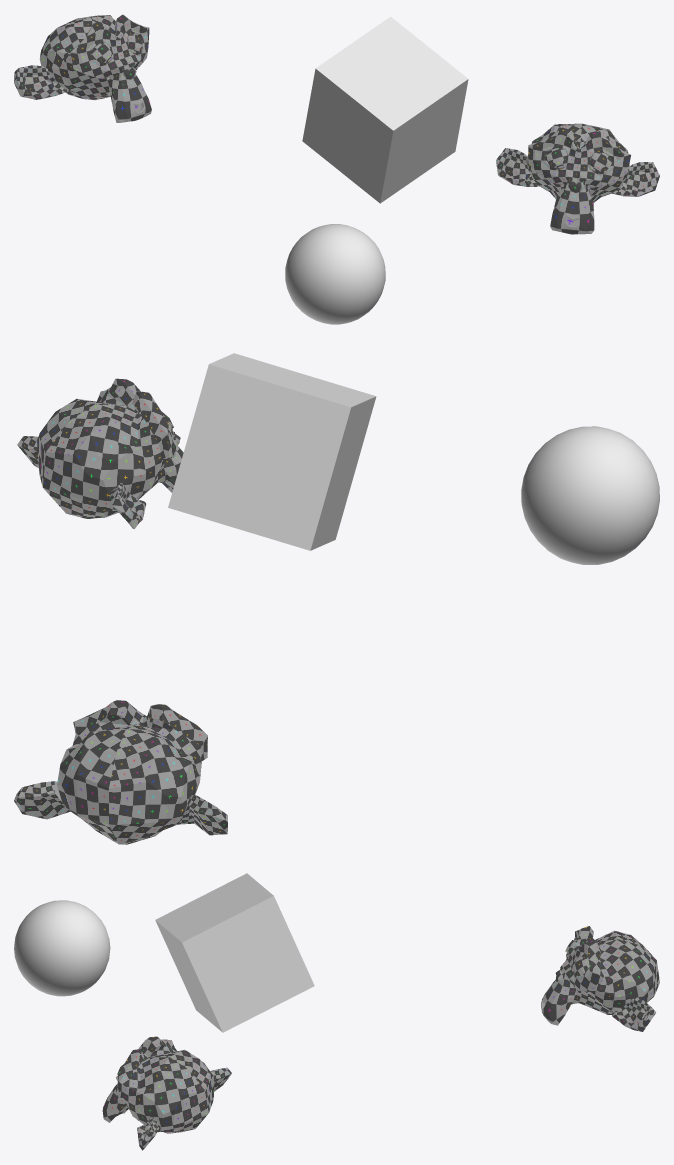
3 views of the same model, one above another, from view 1: azimuth 30°, elevation 25°; view 2: azimuth 150°, elevation 25°; view 3: azimuth 270°, elevation 25° (orthographic). The views are drawn at different scales.
Visible parts, largest first — view 1: MainBox, Suzanne, Suzanne.001, Sphere; view 2: MainBox, Suzanne.001, Suzanne, Sphere; view 3: MainBox, Suzanne.001, Suzanne, Sphere.
Part boxes in pixels (x1=…): MainBox: x1=302, y1=16, x2=468, y2=203; Suzanne: x1=496, y1=123, x2=659, y2=234; Suzanne.001: x1=14, y1=14, x2=151, y2=122; Sphere: x1=285, y1=224, x2=385, y2=324; MainBox: x1=168, y1=353, x2=376, y2=550; Suzanne.001: x1=14, y1=700, x2=227, y2=844; Suzanne: x1=17, y1=378, x2=183, y2=529; Sphere: x1=521, y1=426, x2=659, y2=564; MainBox: x1=155, y1=873, x2=314, y2=1032; Suzanne.001: x1=541, y1=926, x2=659, y2=1031; Suzanne: x1=102, y1=1036, x2=231, y2=1150; Sphere: x1=14, y1=900, x2=110, y2=996.
Size of what is drawn, in the model's own units: 6.22 by 2.64 by 8.84.
3 materials, 1 textured.
